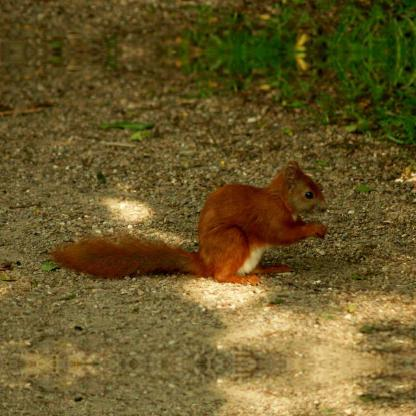Squirrel: (49, 161, 330, 283)
